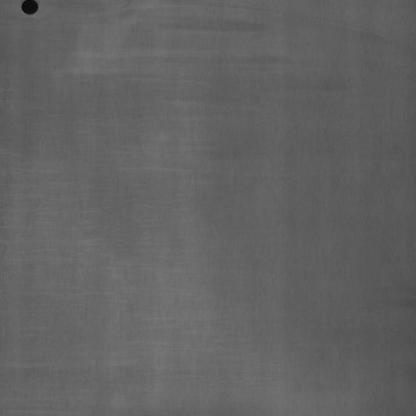punching_hole: (17, 0, 43, 18)
